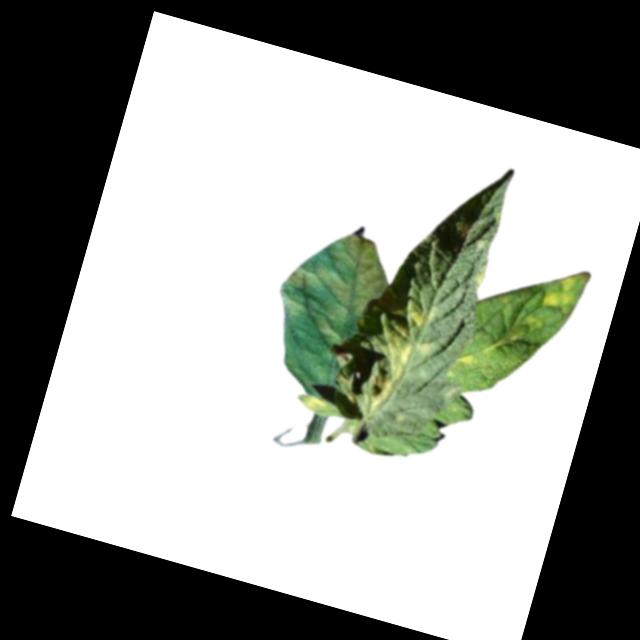Leaf_Mold: (273, 216, 399, 346), (352, 286, 445, 423), (541, 270, 580, 313)
